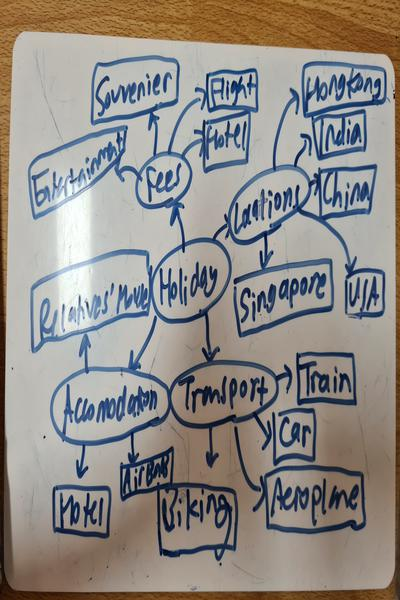arrow: (300, 206, 356, 269), (232, 423, 263, 512), (169, 87, 206, 147), (272, 87, 300, 166), (129, 316, 161, 371), (168, 201, 189, 249), (203, 312, 218, 361), (183, 129, 205, 159), (255, 414, 272, 450), (295, 132, 313, 166), (75, 443, 90, 481), (205, 426, 219, 466), (116, 160, 140, 183), (276, 363, 294, 393), (260, 232, 275, 266), (148, 112, 159, 156), (80, 333, 93, 369), (128, 433, 139, 460), (309, 175, 321, 196)
idea: (29, 250, 150, 347), (25, 125, 126, 218), (233, 259, 335, 339), (262, 465, 365, 534), (156, 483, 236, 557), (92, 55, 180, 120), (302, 60, 387, 117), (295, 348, 361, 405), (51, 484, 113, 540), (317, 165, 377, 220), (310, 110, 369, 161), (118, 450, 175, 501), (202, 112, 249, 172), (271, 407, 318, 463), (207, 67, 258, 115), (344, 269, 388, 320)
topic: (51, 368, 169, 447), (151, 235, 232, 324), (172, 363, 279, 428), (229, 166, 309, 244), (137, 153, 191, 210)
